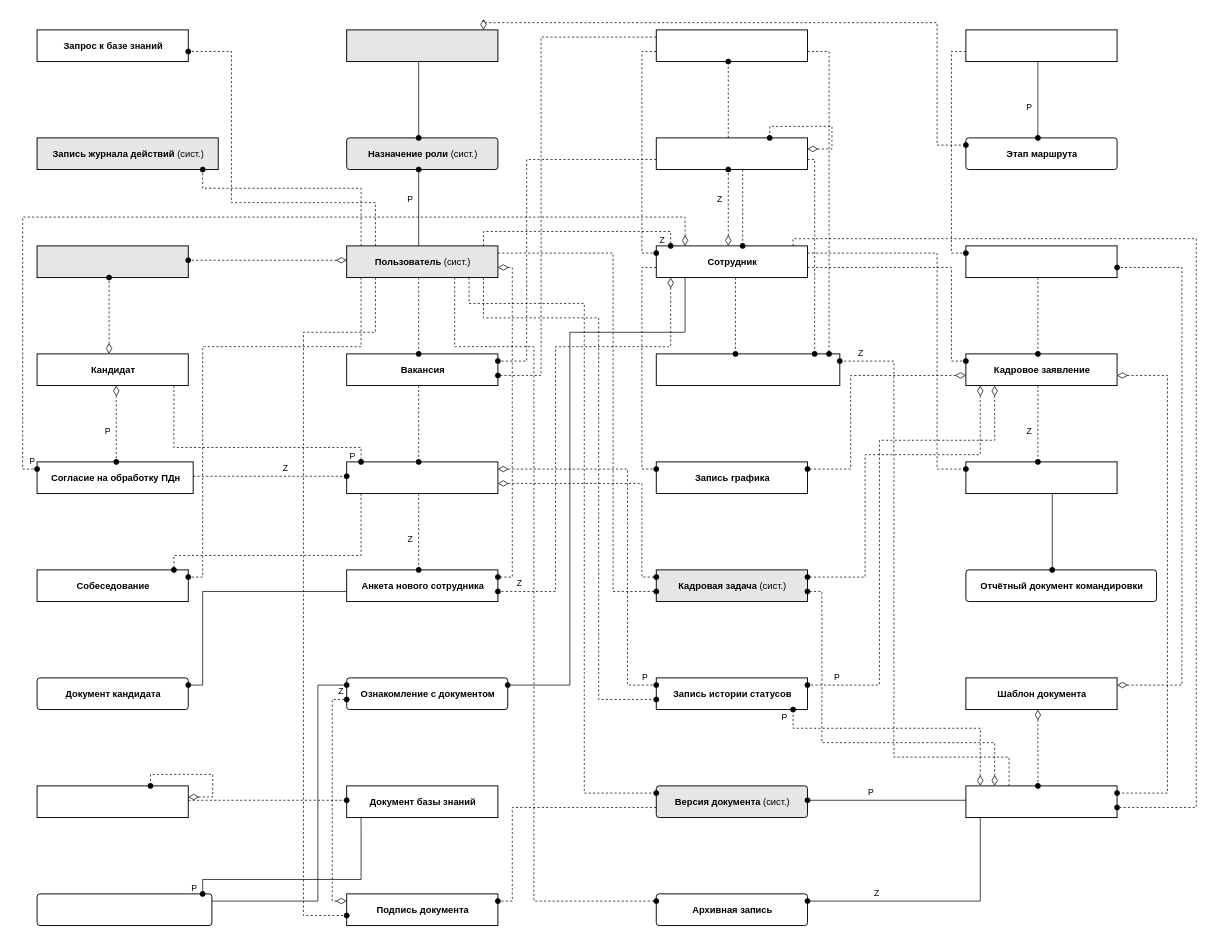
This 1215x939 diagram has some shape labels left out. Each missing label, with the box of its shape:
Версия документа базы знаний: (36, 893, 212, 926)
Должность: (655, 29, 808, 62)
Запись о трудовой деятельности: (655, 353, 840, 386)
Кадровый документ: (965, 785, 1117, 818)
Категория базы знаний: (36, 785, 188, 818)
Командировка: (965, 461, 1117, 494)
Маршрут согласования: (965, 29, 1117, 62)
Отклик на вакансию: (346, 461, 498, 494)
Подразделение: (655, 137, 808, 170)
Роль (сист.): (346, 29, 498, 62)
Тип заявления: (965, 245, 1117, 278)
Уведомление (сист.): (36, 245, 188, 278)
